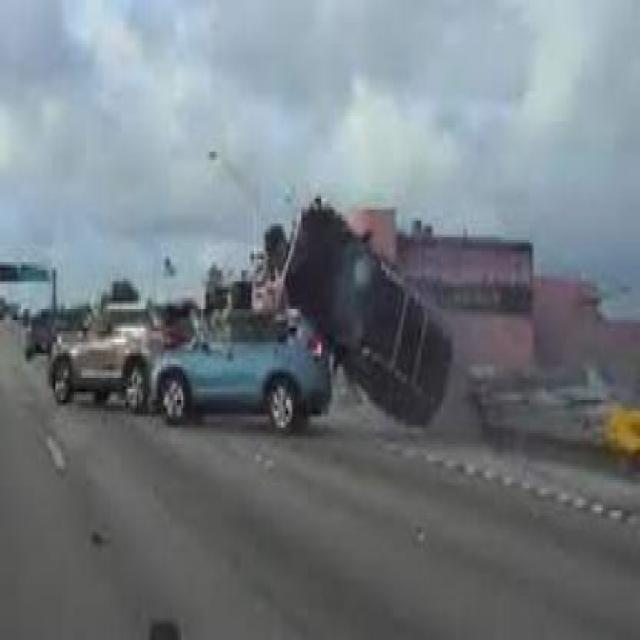accident: (154, 176, 463, 425), (46, 276, 329, 441)
